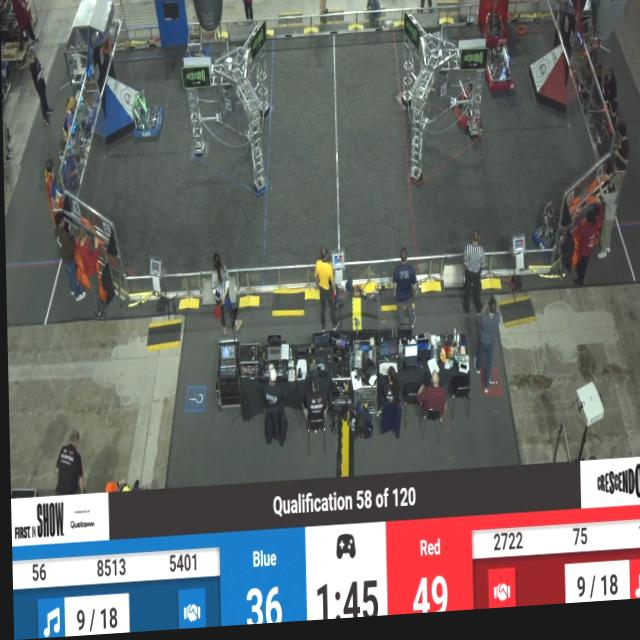Robot: (530, 201, 567, 271), (453, 81, 483, 148), (481, 0, 515, 57), (178, 24, 209, 81), (131, 93, 163, 144), (483, 51, 513, 103)
